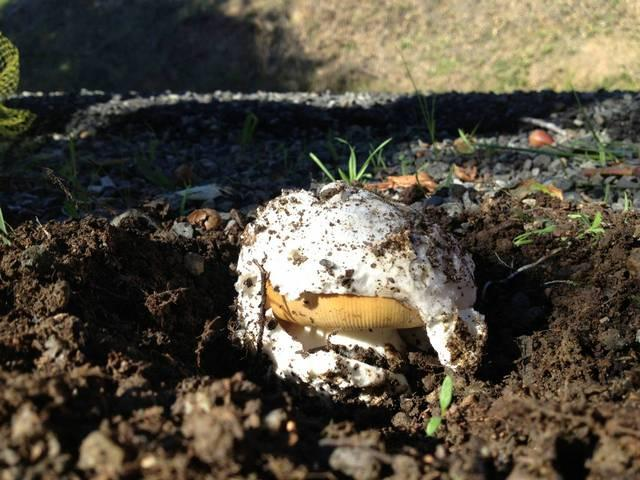edible_mushroom: (231, 179, 487, 401)
